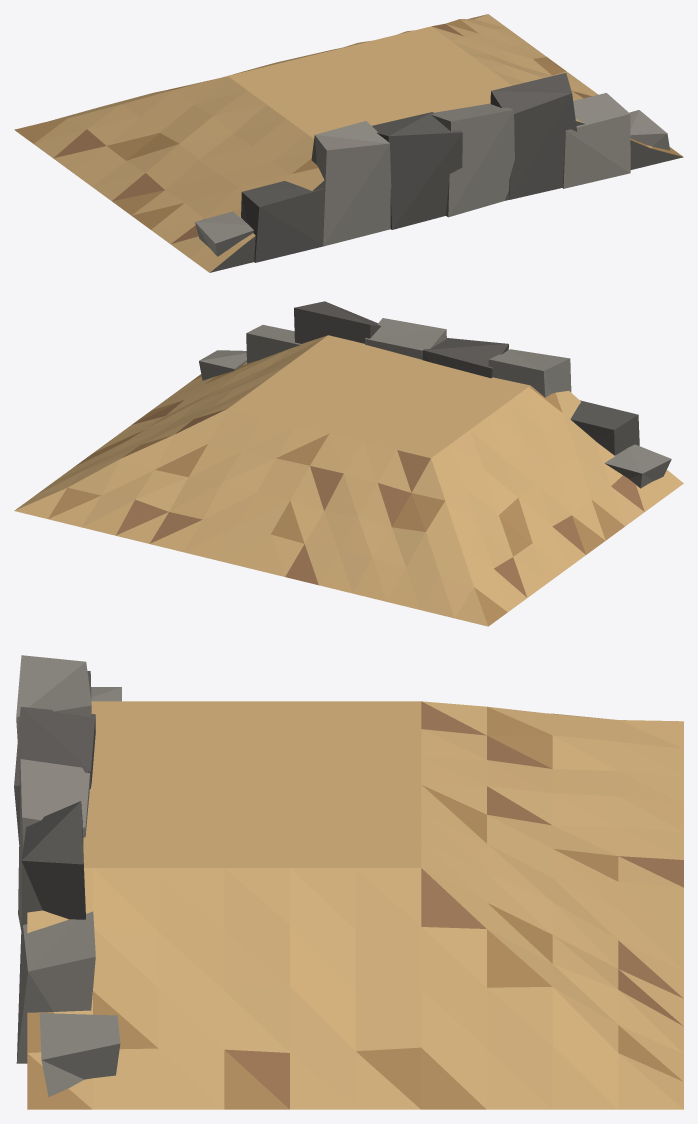
The model's file is SM_ColMons_A.fbx.
3 views of the same model, one above another, from view 1: azimuth 30°, elevation 25°; view 2: azimuth 150°, elevation 25°; view 3: azimuth 270°, elevation 25° (orthographic). The views are drawn at different scales.
Parts seen in each view (by area): view 1: SM_ColMons_A; view 2: SM_ColMons_A; view 3: SM_ColMons_A.
Boxes of the visible parts, box(x1,y1,x2,y2) form: SM_ColMons_A: box(14, 14, 683, 272); SM_ColMons_A: box(14, 301, 683, 626); SM_ColMons_A: box(14, 655, 683, 1109).
Size of the model in its own units: 14 by 10.2 by 2.76.
